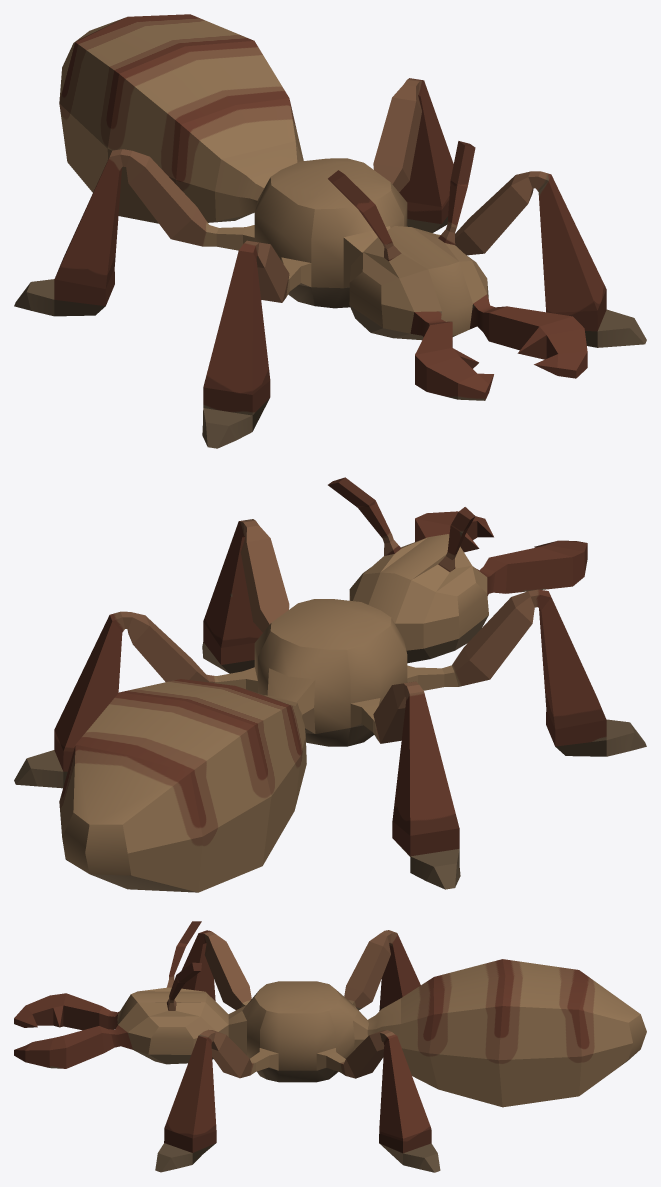
Rendered from termite v2.fbx.
The picture shows the model from 3 angles, top to bottom: view 1: azimuth 30°, elevation 25°; view 2: azimuth 150°, elevation 25°; view 3: azimuth 270°, elevation 25°; orthographic projection. The views are drawn at different scales.
Visible parts, largest first — view 1: termite; view 2: termite; view 3: termite.
Boxes of the visible parts, x1=… form: termite: x1=14, y1=14, x2=646, y2=448; termite: x1=14, y1=477, x2=646, y2=892; termite: x1=14, y1=921, x2=646, y2=1172.
Size of the model in its own units: 95.25 by 44.97 by 167.
